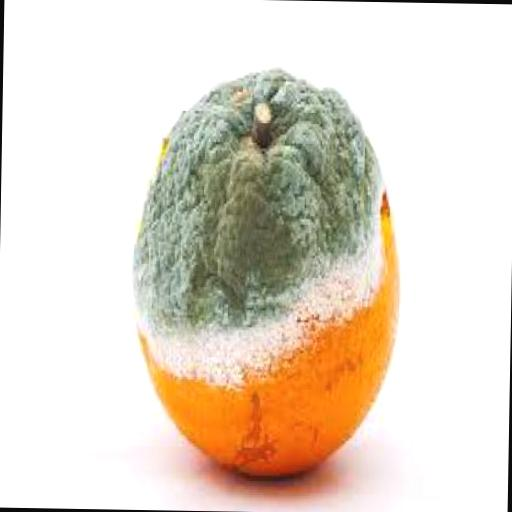biodegradable: (128, 70, 402, 475)
